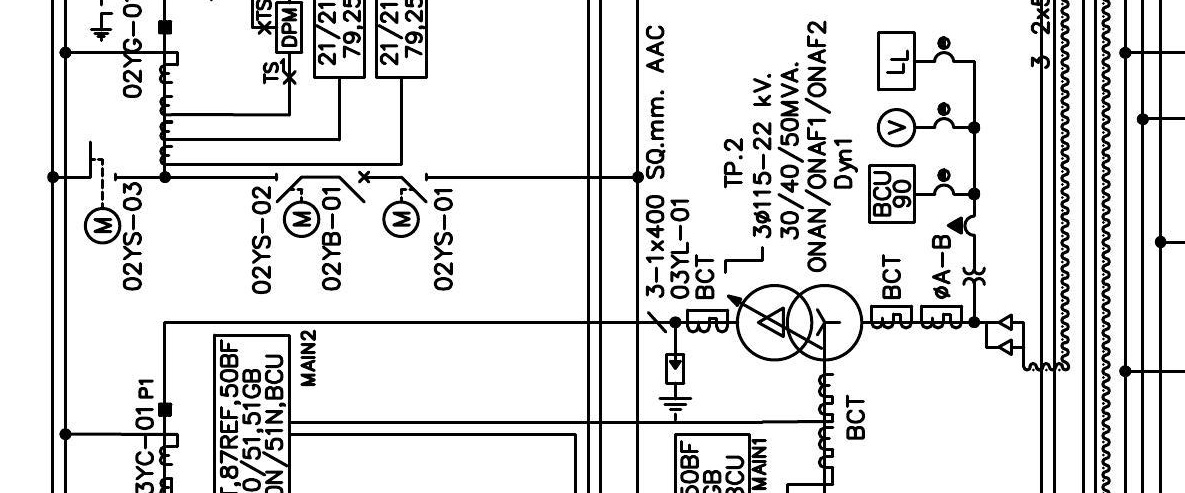11522_tx_dyn1: (735, 283, 863, 362)
115_1way_ds_w_motor: (84, 140, 123, 247), (274, 172, 321, 240), (382, 172, 429, 240)
115_breaker: (339, 170, 371, 204)
115_gs: (89, 2, 114, 43)
115_la: (658, 352, 693, 421)
DPM: (275, 2, 303, 55)
LL: (877, 31, 916, 91)
terminator_double: (984, 313, 1014, 357)
v_m: (876, 107, 916, 148)
